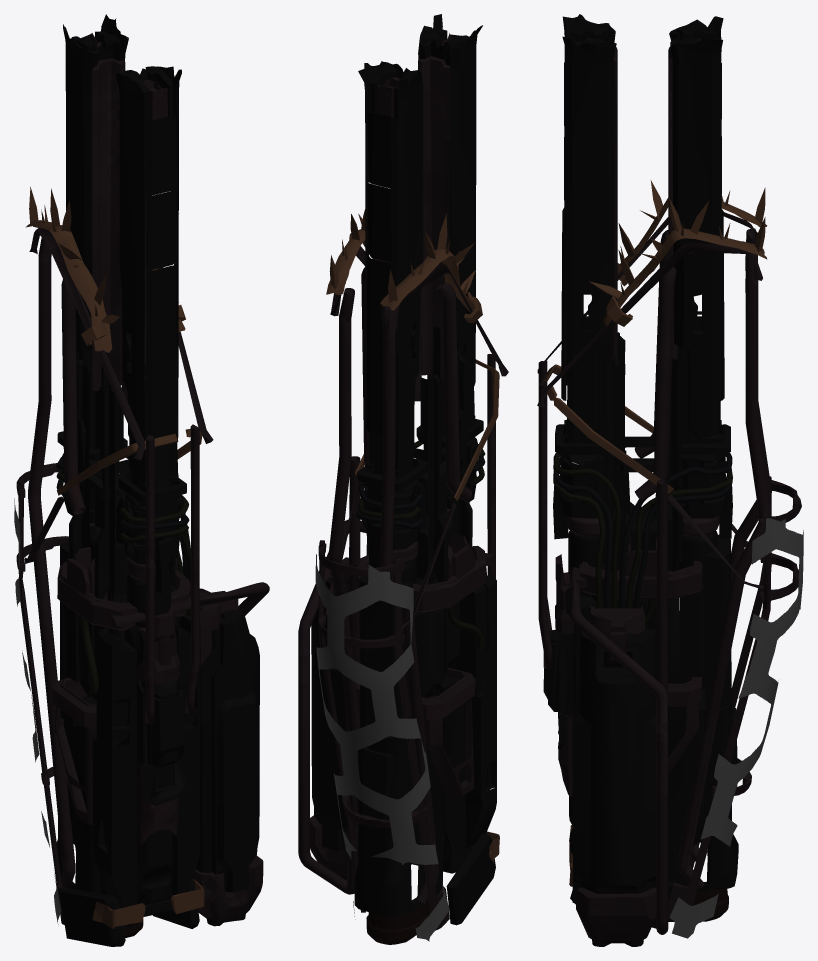
File: tormenter-s3-repeater.glb
3 views of the same model, side by side, from view 1: azimuth 30°, elevation 25°; view 2: azimuth 150°, elevation 25°; view 3: azimuth 270°, elevation 25° (orthographic). The views are drawn at different scales.
Visible parts, largest first — view 1: bas, anim_bar_02; view 2: bas, anim_bar_02; view 3: bas, anim_bar_02.
Part boxes in pixels (box(x1,y1,x2,y2)): bas: box(14, 31, 269, 946); anim_bar_02: box(63, 14, 181, 443); bas: box(298, 29, 508, 944); anim_bar_02: box(358, 14, 482, 436); bas: box(537, 27, 803, 946); anim_bar_02: box(562, 14, 723, 403).
Bounding box in the file's own units: 0.6536 × 3.1 × 0.8399.
Materials: 10 (7 with a texture image).
